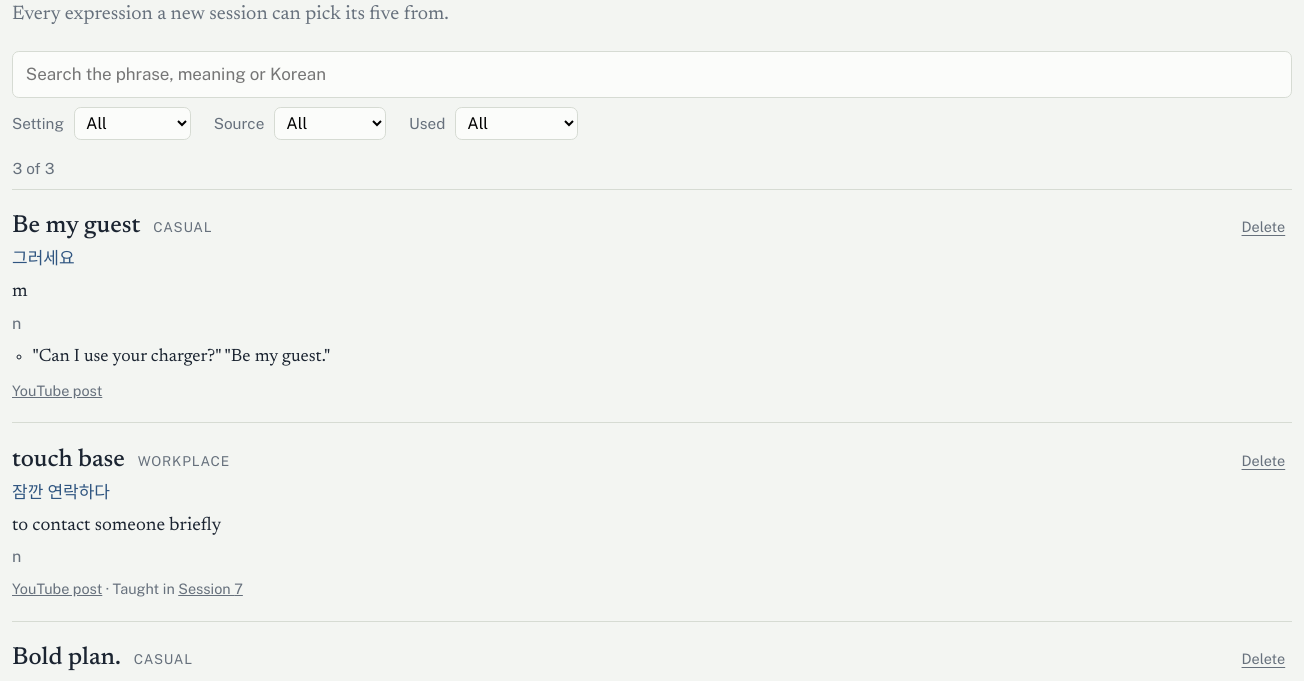
Test: deletes an expression after a confirm that names the sessions it leaves
The width and height of the screenshot is (1304, 681).
expect the heading "Be my guest" is shown: met, box [12,212,140,242]
Click the button with aria-label "Delete touch base" at (1263,461), box [1235,445,1292,477]
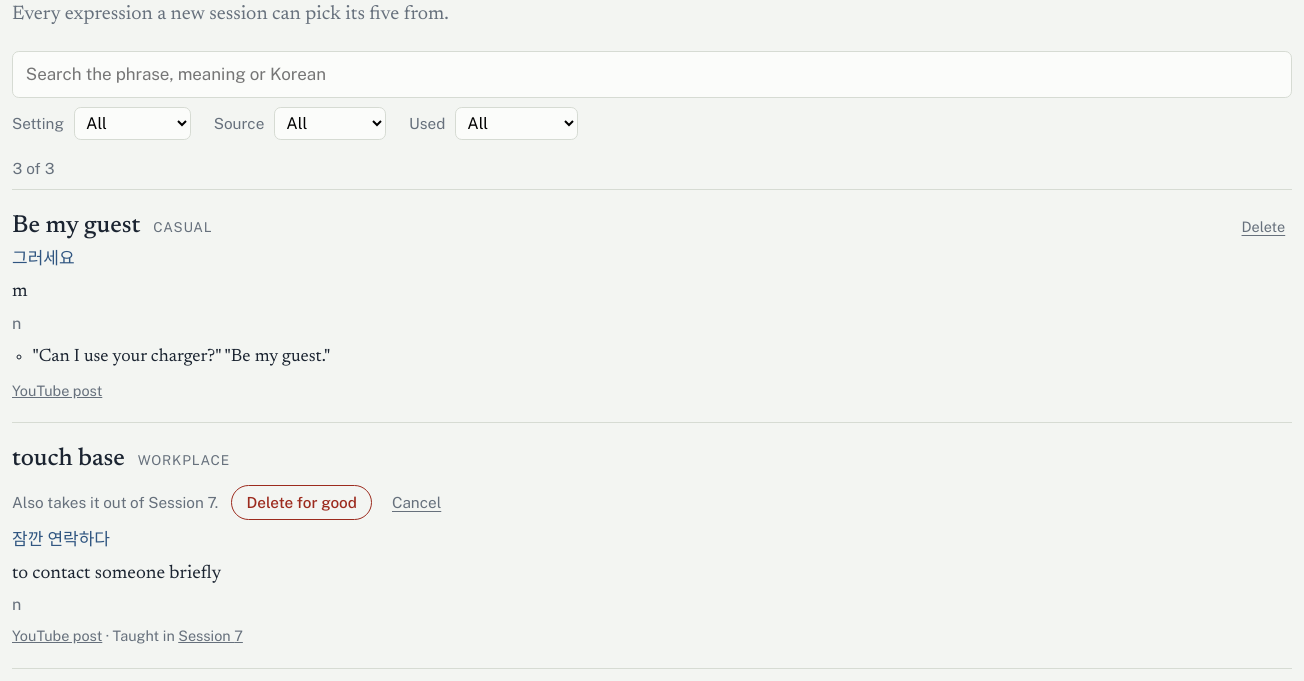
expect the text "Also takes it out of Session 7." is shown: met, box [12,491,218,514]
Click the button "Cancel" at (417,503), box [385,486,448,519]
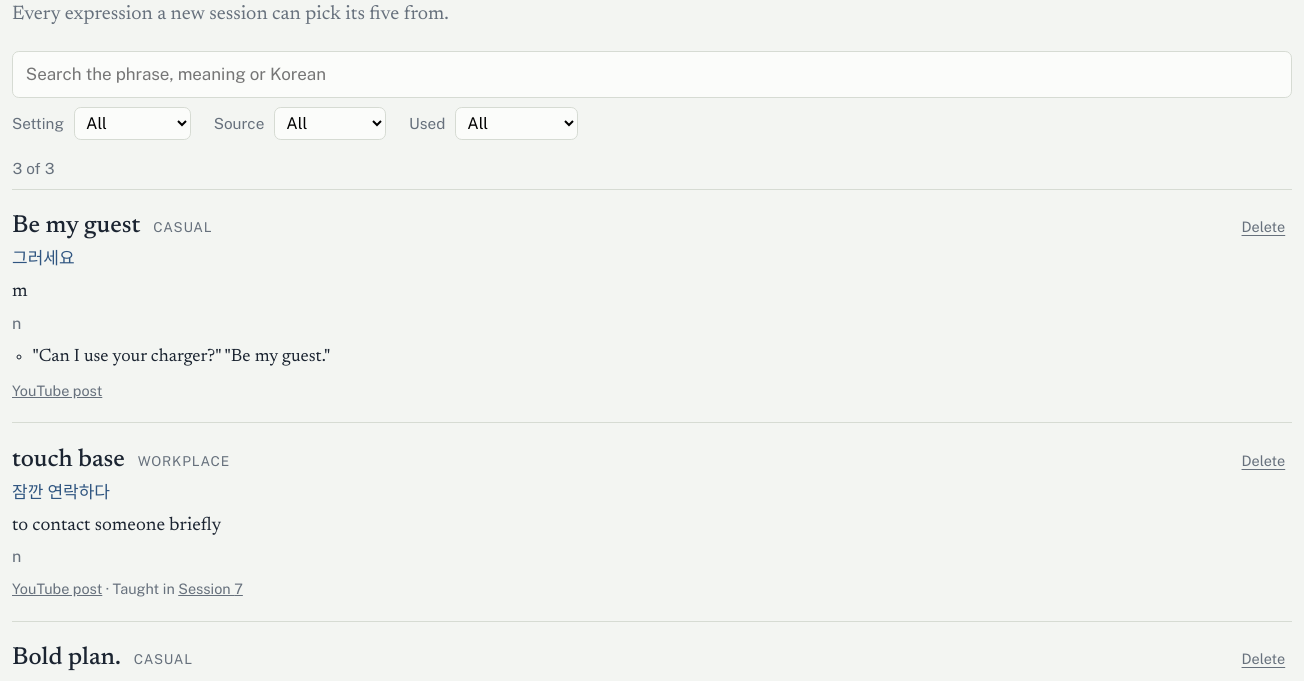
expect the text "Also takes it out of Session 7." is gone: met
Click the button with aria-label "Delete touch base" at (1263,461), box [1235,445,1292,477]
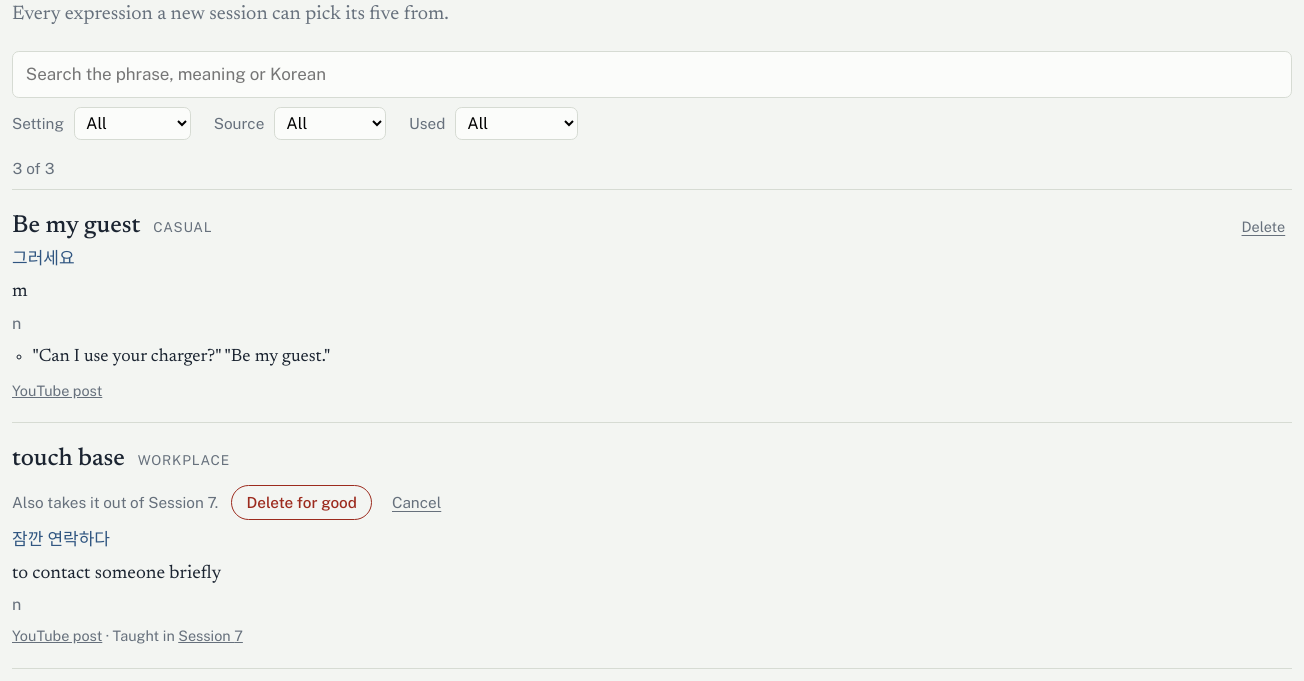
Click the button "Delete for good" at (302,503), box [231,485,372,520]
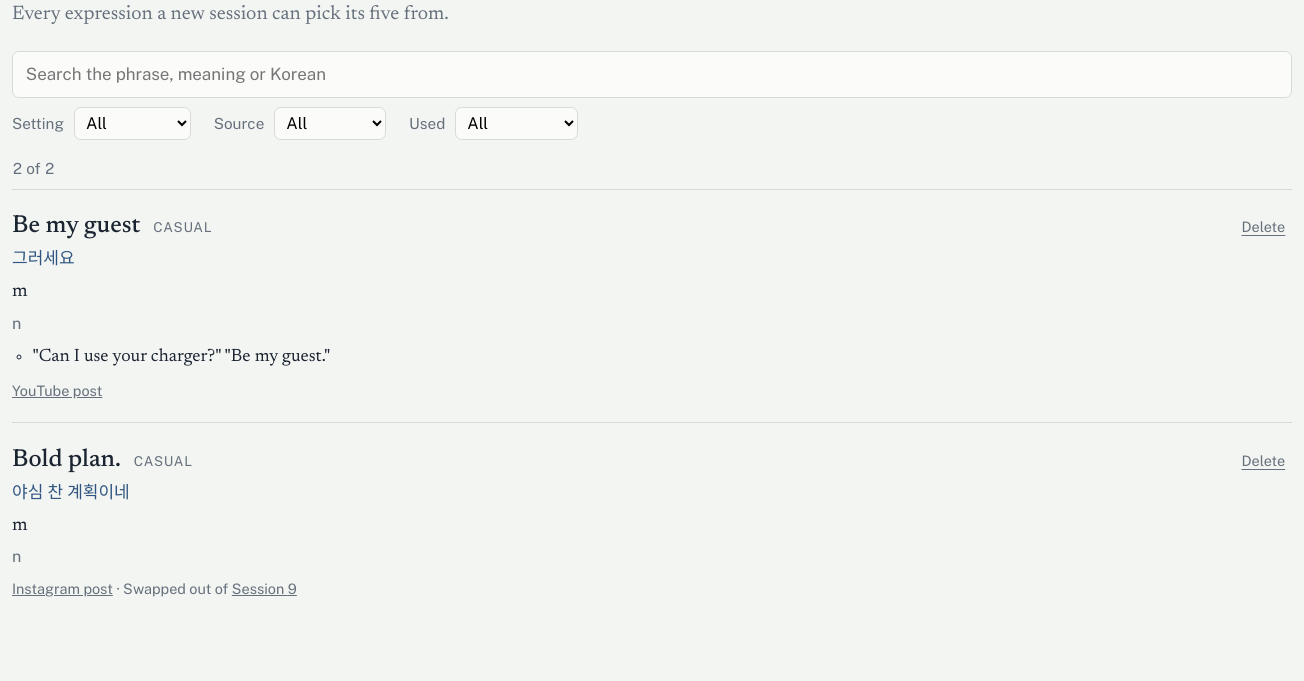
expect the text "2 of 2" is shown: met, box [12,159,55,177]
